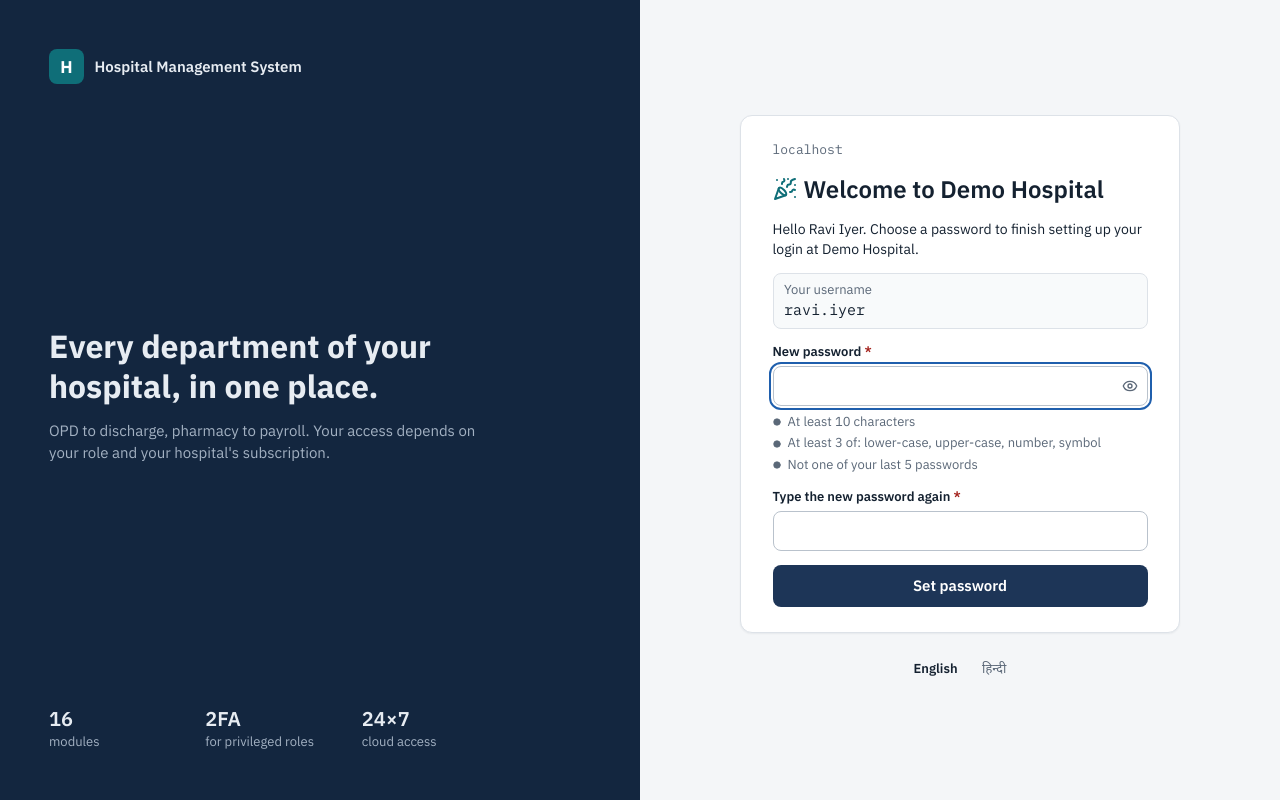
Invitation › shows who it is for, sets the password and continues to sign in
Expected: the heading "Welcome to Demo Hospital" is shown, [772,172,1148,204]
Expected: the text "ravi.iyer" is shown, [784,300,865,318]
Type "Ravi#Pass2026" into the password field labelled "New password *" at {"x": 960, "y": 386}, box [772,366,1148,406]
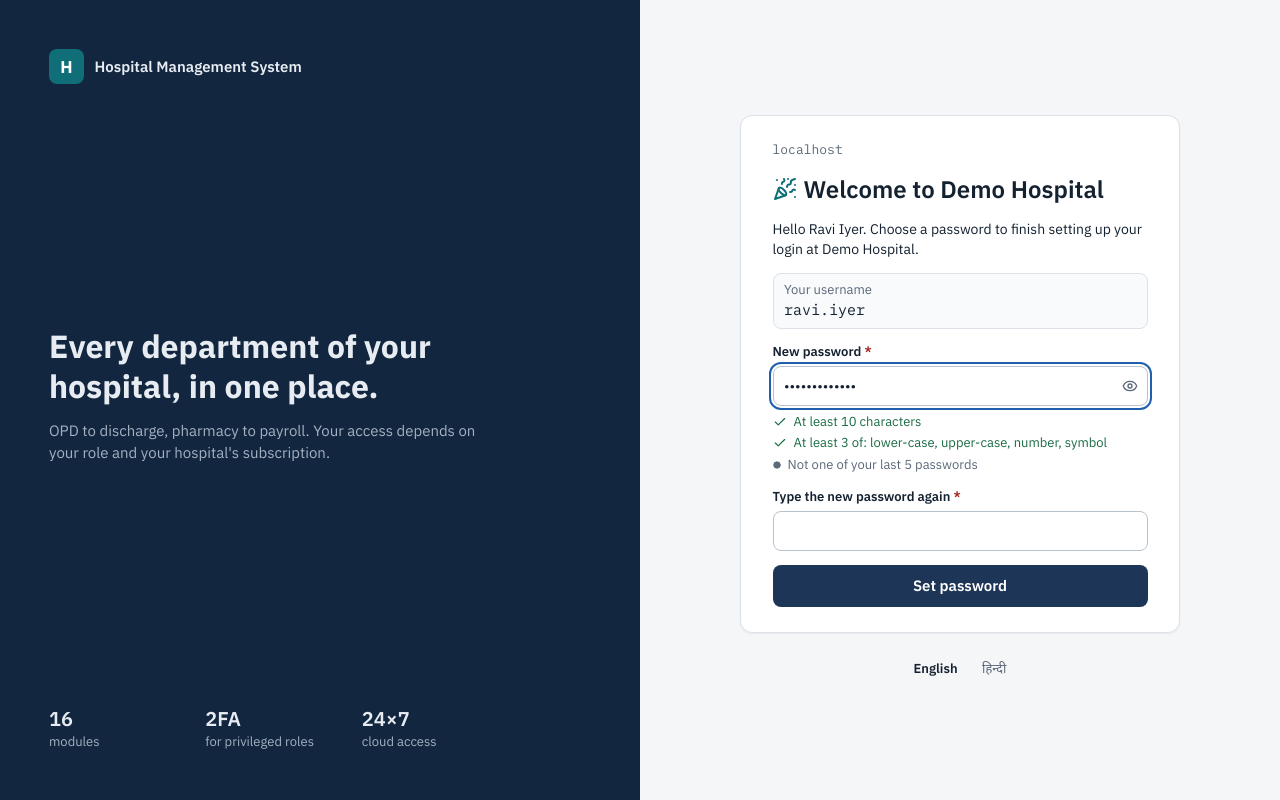
Type "Ravi#Pass2026" into the password field labelled "Type the new password again *" at {"x": 960, "y": 531}, box [772,511,1148,551]
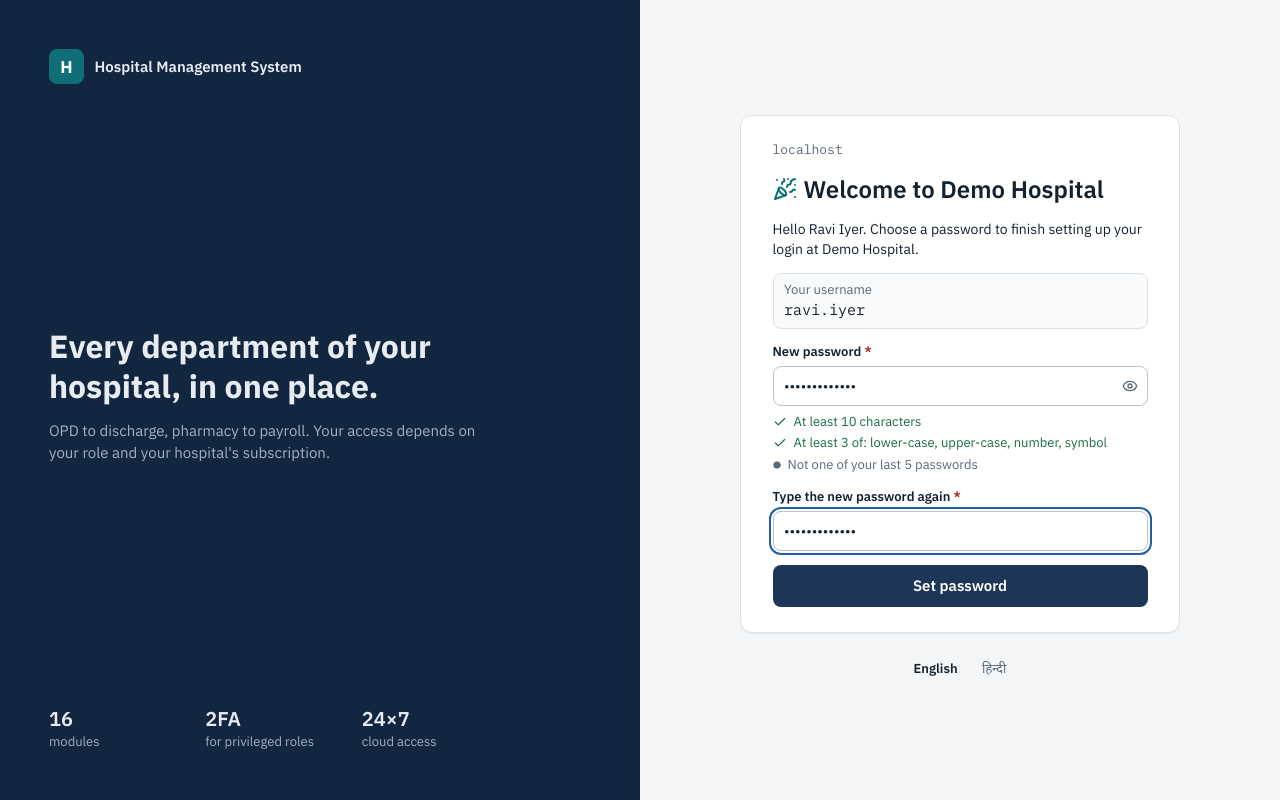
Click the button "Set password" at {"x": 960, "y": 586}, box [772,565,1148,607]
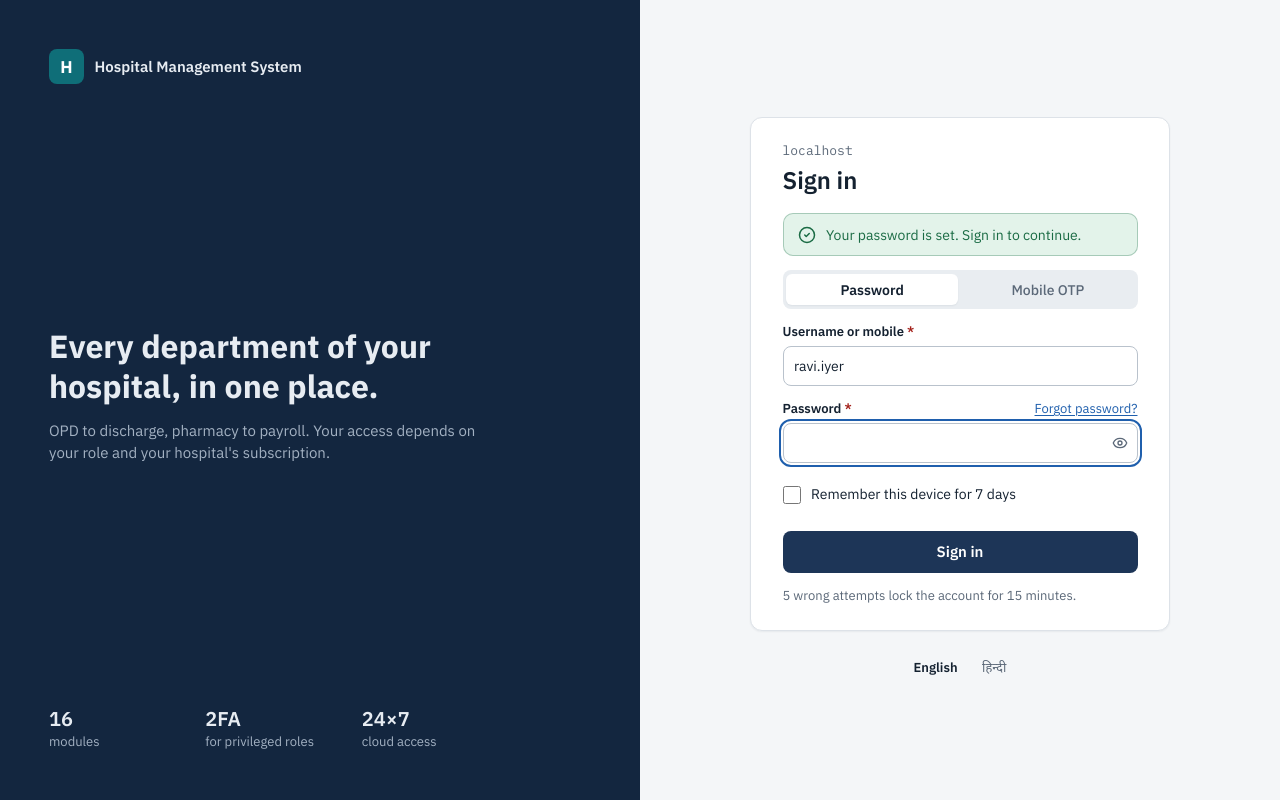
Result: the field labelled "Username or mobile *" holds "ravi.iyer" at [782,346,1138,386]
Result: the text "Your password is set. Sign in to continue." is shown at [826,225,1122,245]
